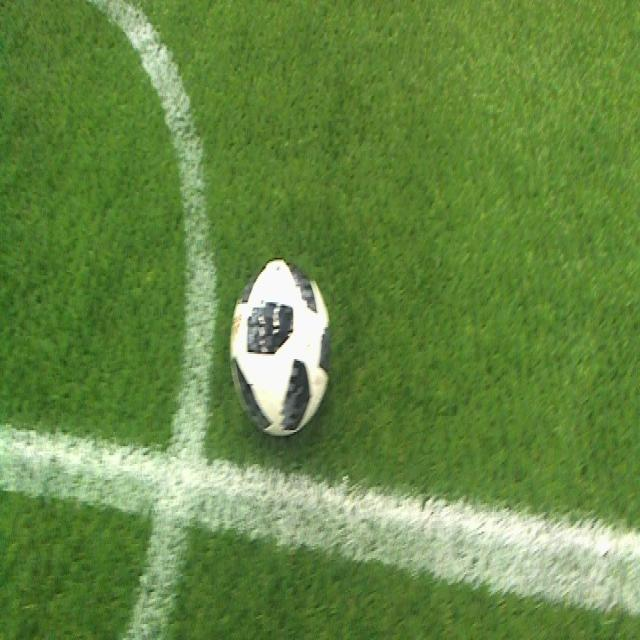ball: (229, 258, 333, 439)
